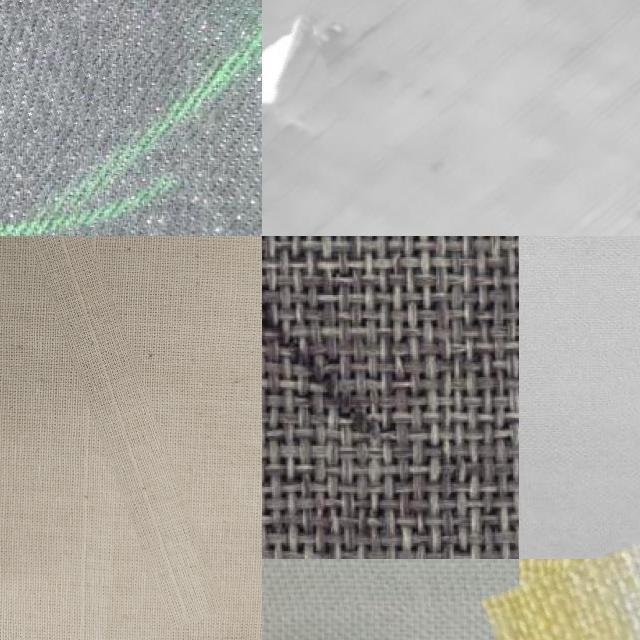Thread_other: (500, 545, 640, 640)
other: (262, 19, 328, 112)
stains: (9, 236, 175, 635)
